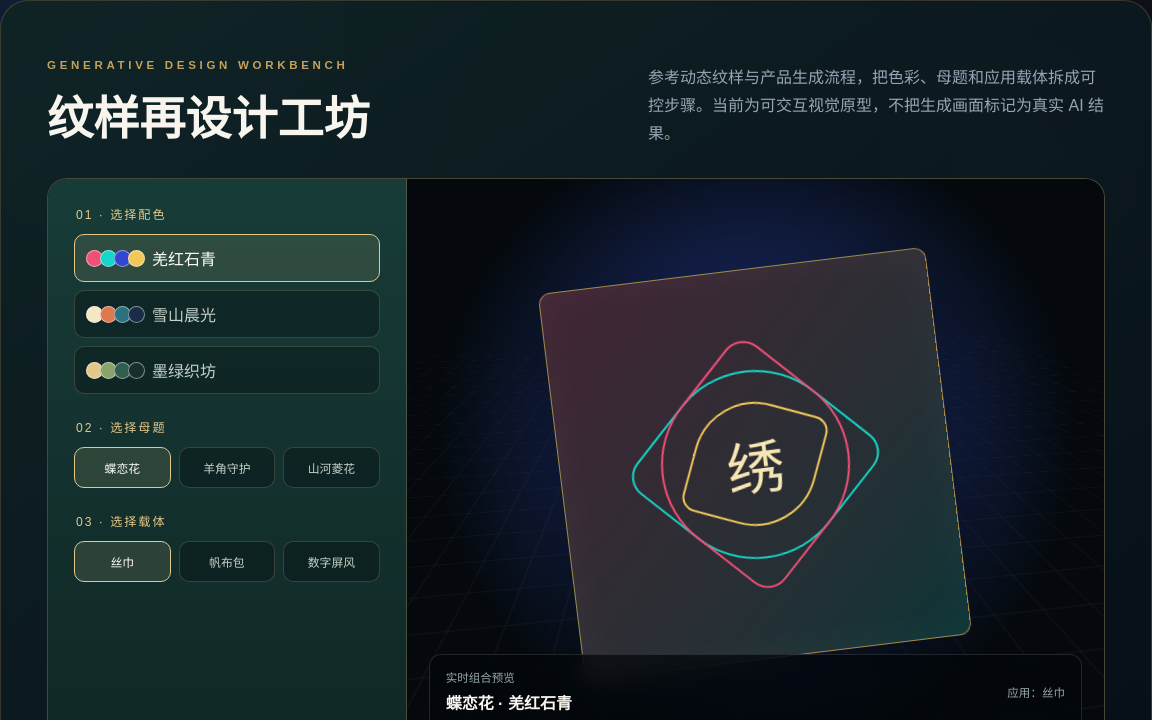
Scenario: DesignWorkbench › updates the composed preview when choices change
Click the button "雪山晨光": click(184, 316) [74,290,380,338]
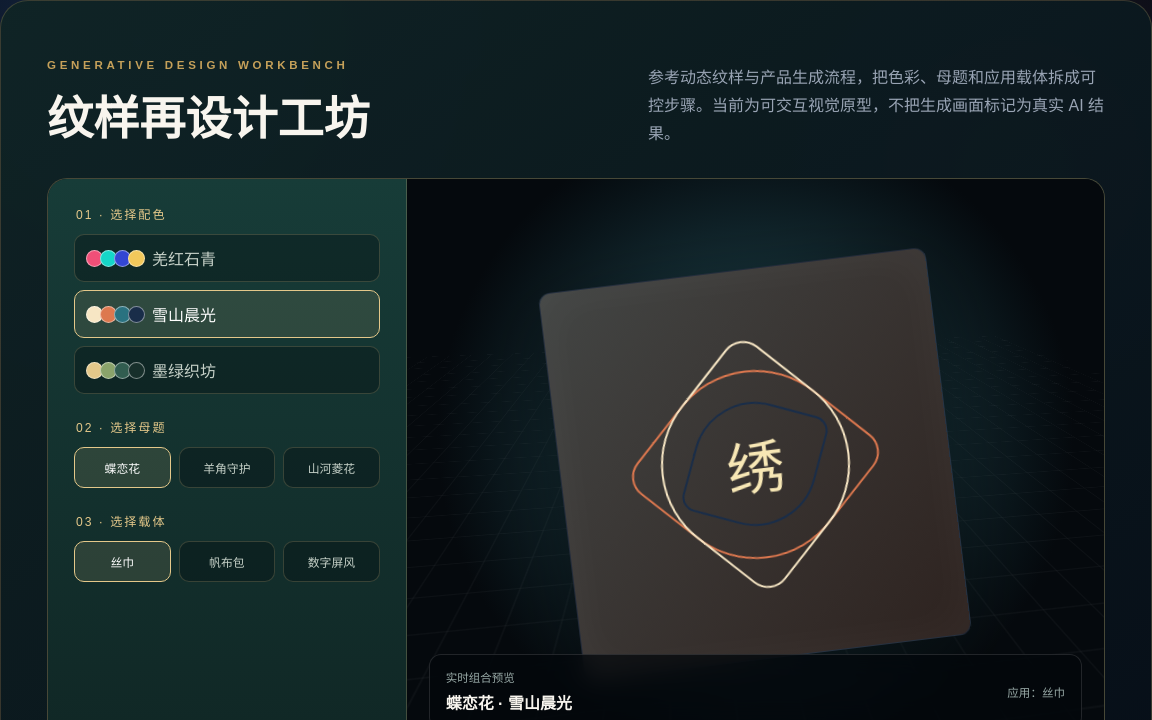
Click the button "羊角守护": click(227, 468) [179,447,275,488]
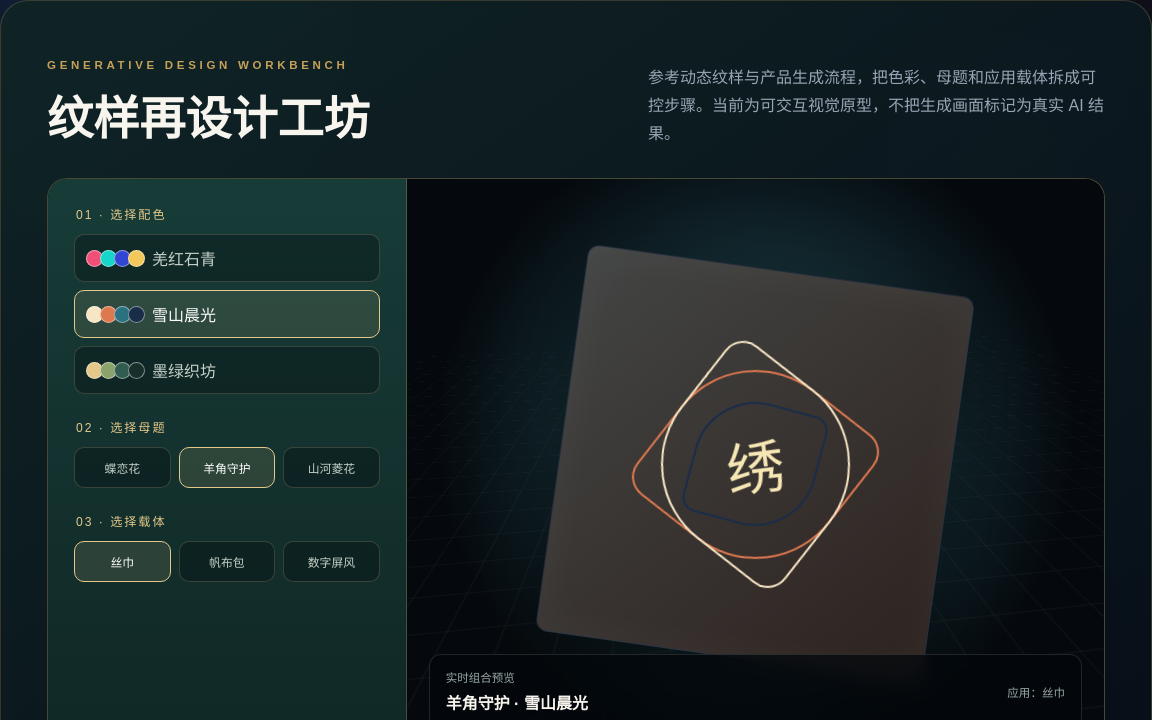
Click the button "帆布包": click(227, 562) [179,541,275,582]
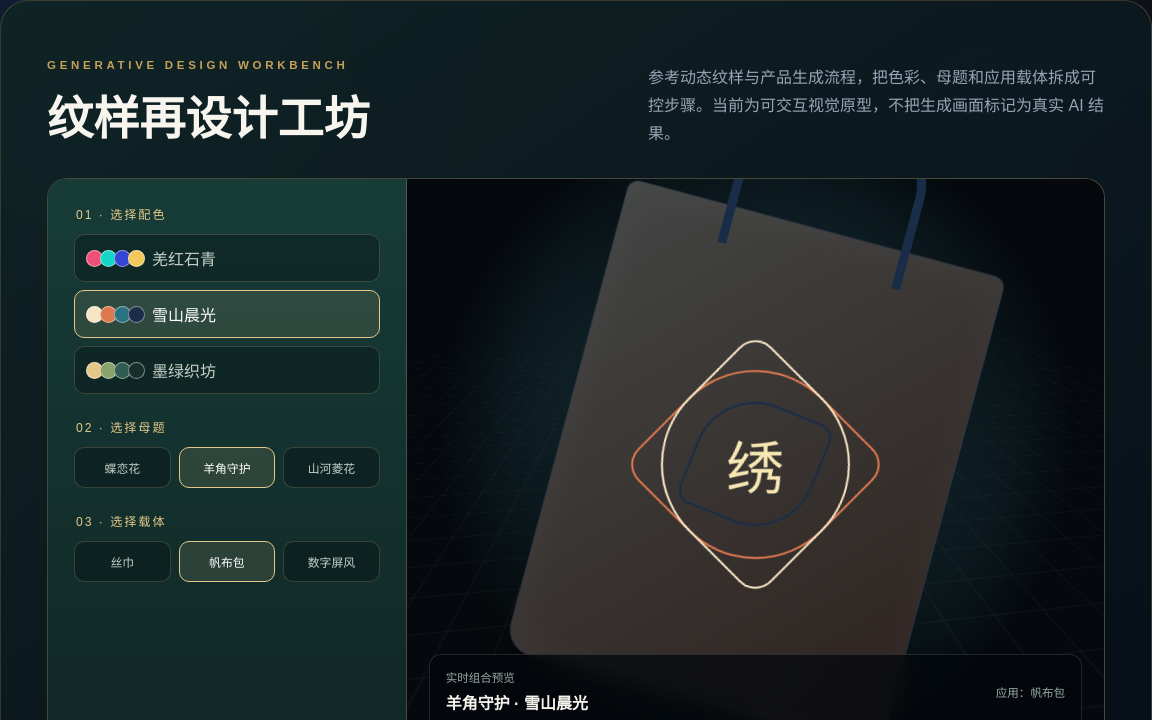
Now the text "羊角守护 · 雪山晨光" is shown, box [446,695,588,712]
Now the text "应用：帆布包" is shown, box [996,684,1065,700]
